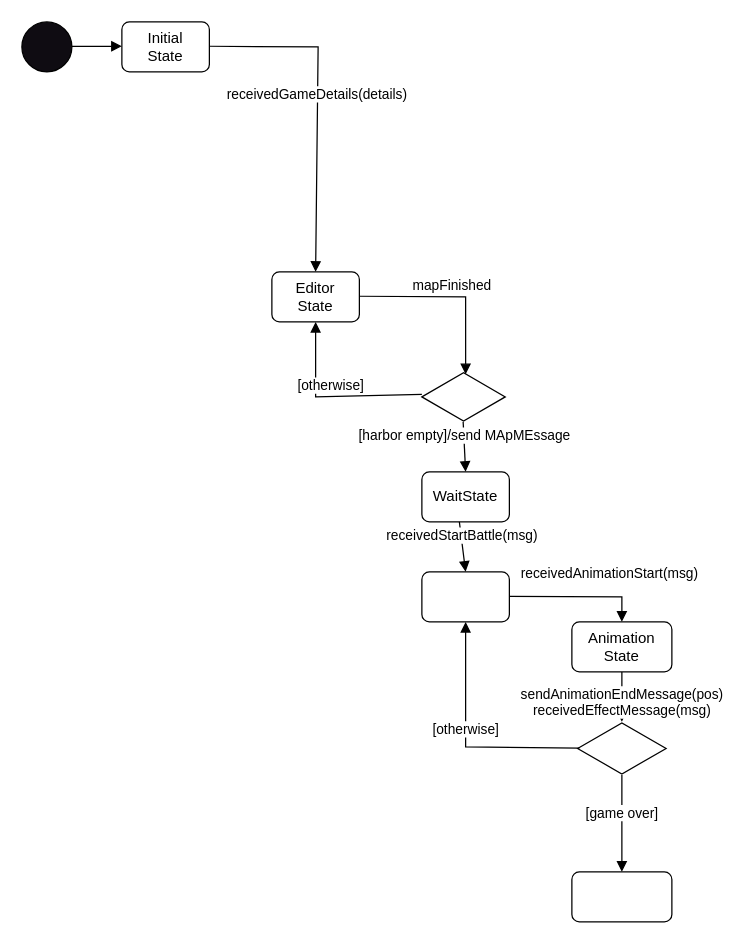
The diagram is 745 pixels wide and 944 high, and some of its shapes have lost their labels. Here are the shapes that lost their labels. From the top down, the centre of each, then its label:
point 465,596: BattleState
point 621,896: GameOver State
